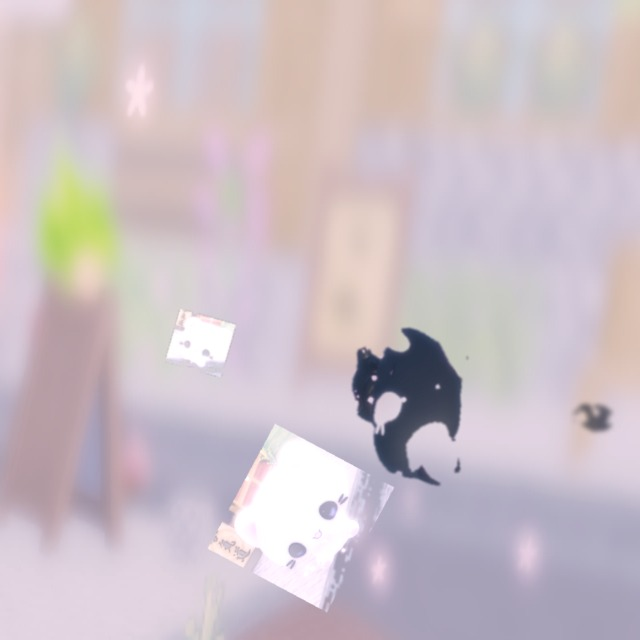urso_branco: (207, 423, 395, 613), (165, 309, 236, 377)
urso_preto: (331, 298, 492, 514), (563, 392, 625, 445)
